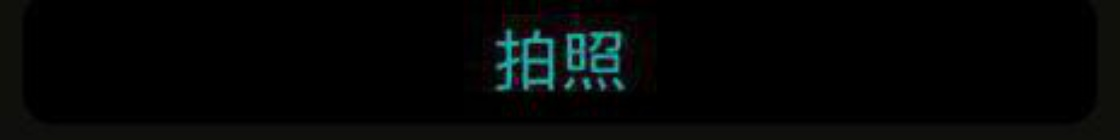Button: (1, 1, 1119, 139)
